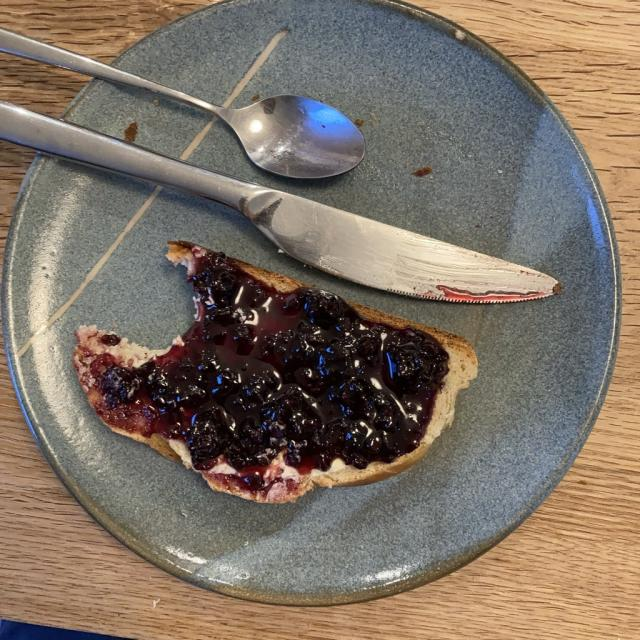braided-white-loaf: (82, 254, 464, 498)
butter: (172, 441, 310, 475)
jam: (96, 261, 447, 488)
